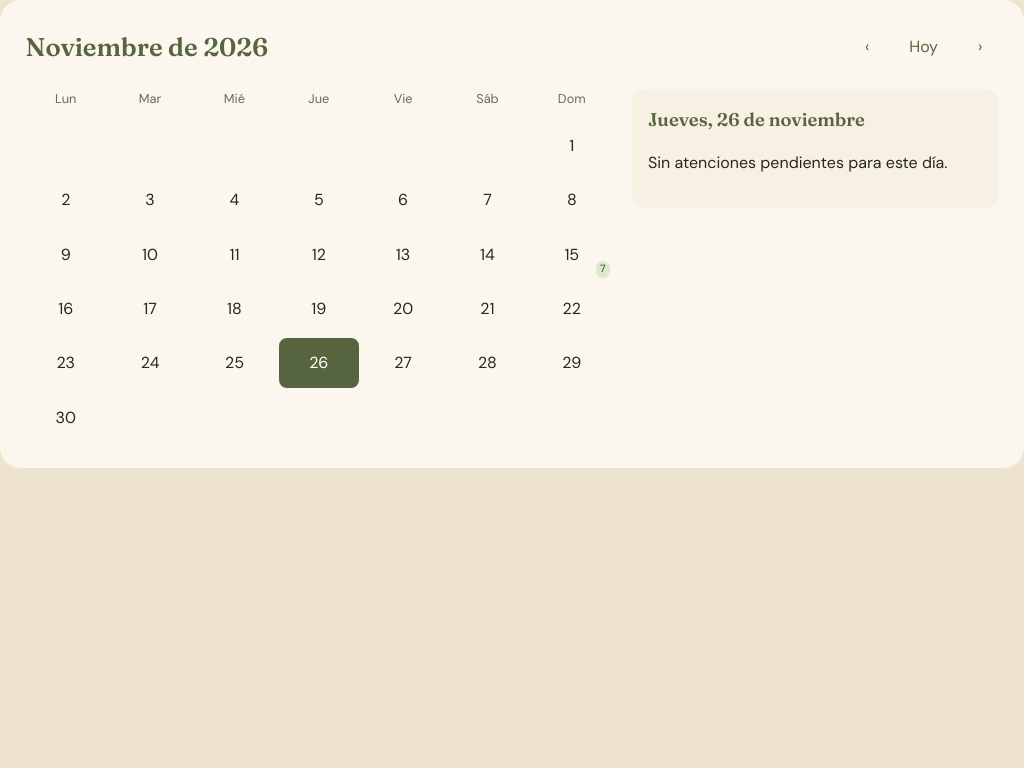
Test: consulta cada mes y limita las citas visibles del día
The width and height of the screenshot is (1024, 768).
Later steps or results of the test are not shown.
Click the button named "-15, 7 atenciones" at [572, 254], box 532,229 -> 612,280
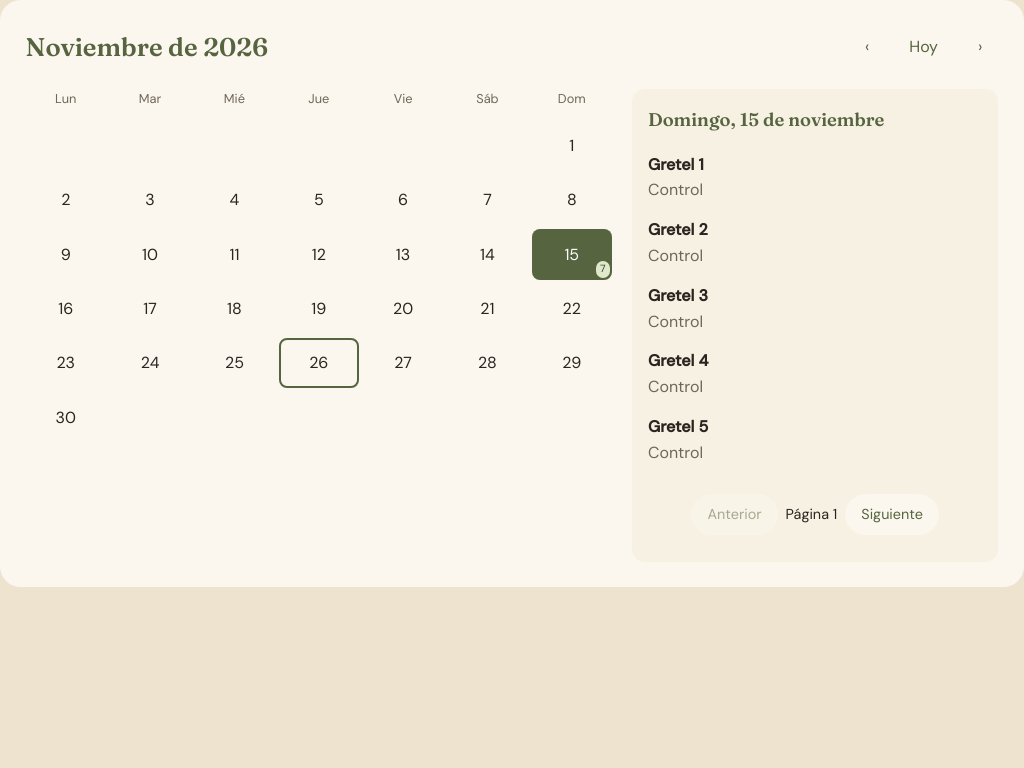
Expected: the text "Gretel 6" is not shown
Now the text "Gretel 5" is shown, box 648,416 -> 708,437
Click the button "Siguiente" at [892, 514], box 845,494 -> 939,535
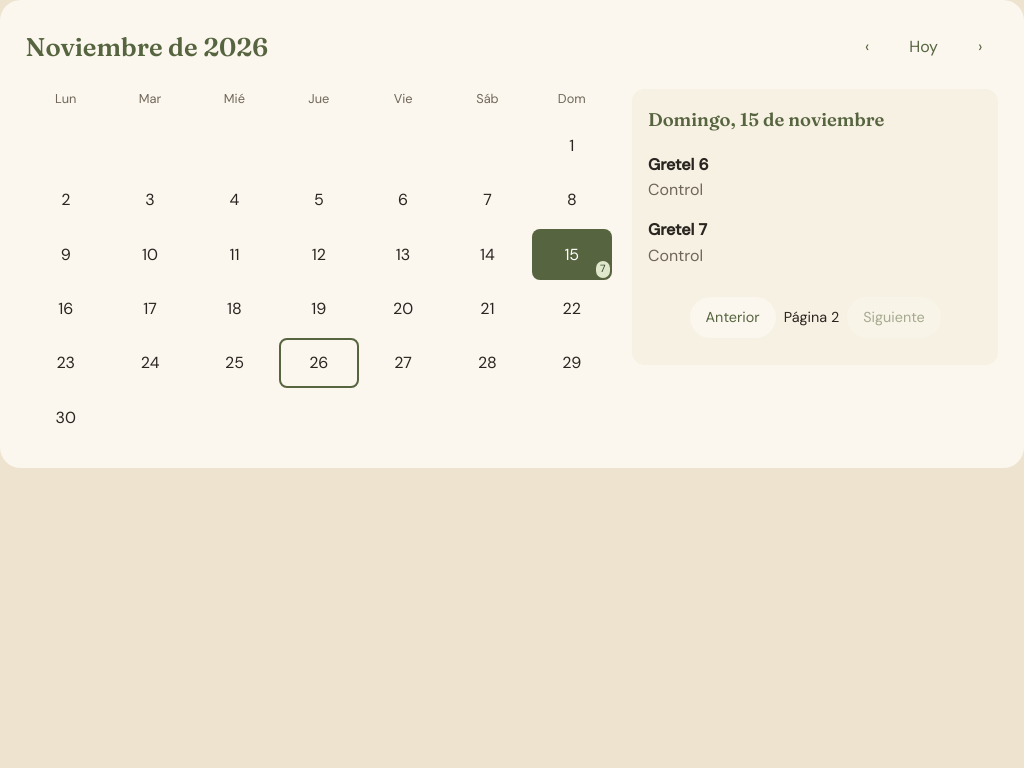
Now the text "Gretel 6" is shown, box 648,154 -> 708,175
